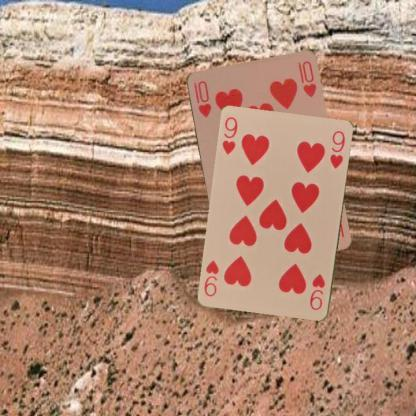10h: (190, 78, 212, 118)
9h: (219, 115, 240, 156), (308, 271, 326, 313)
